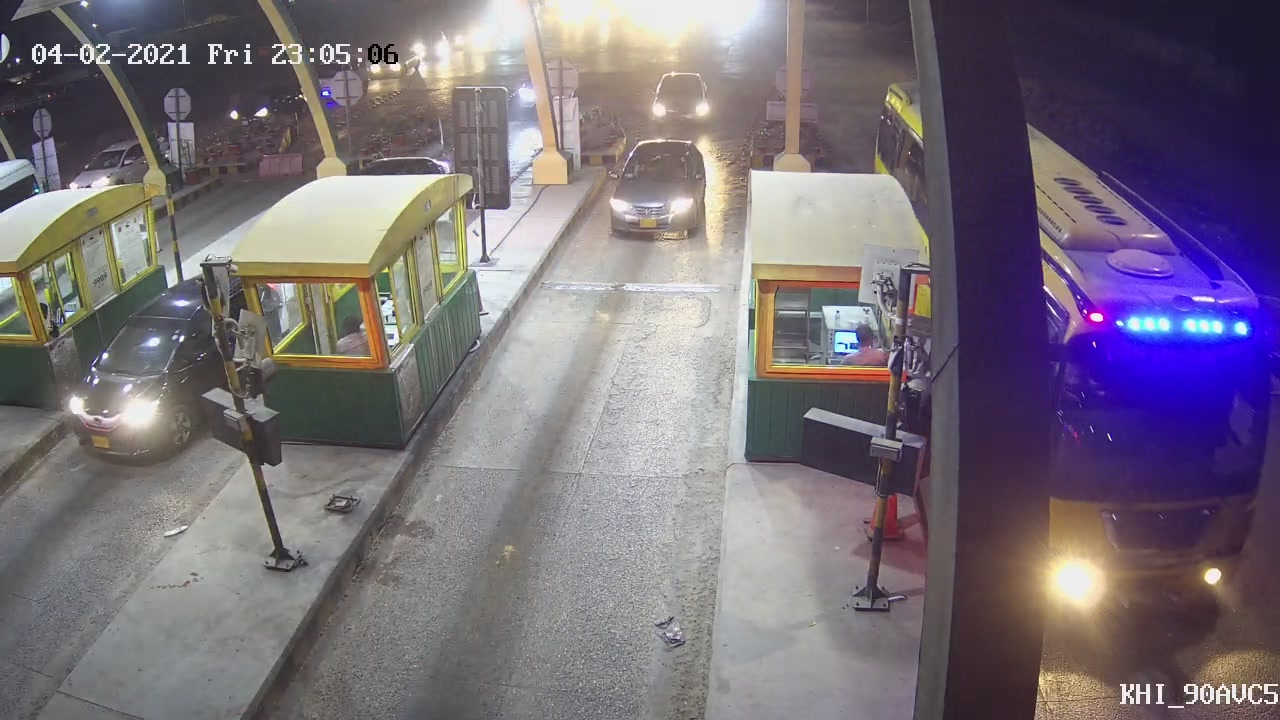F1: (603, 135, 713, 239)
